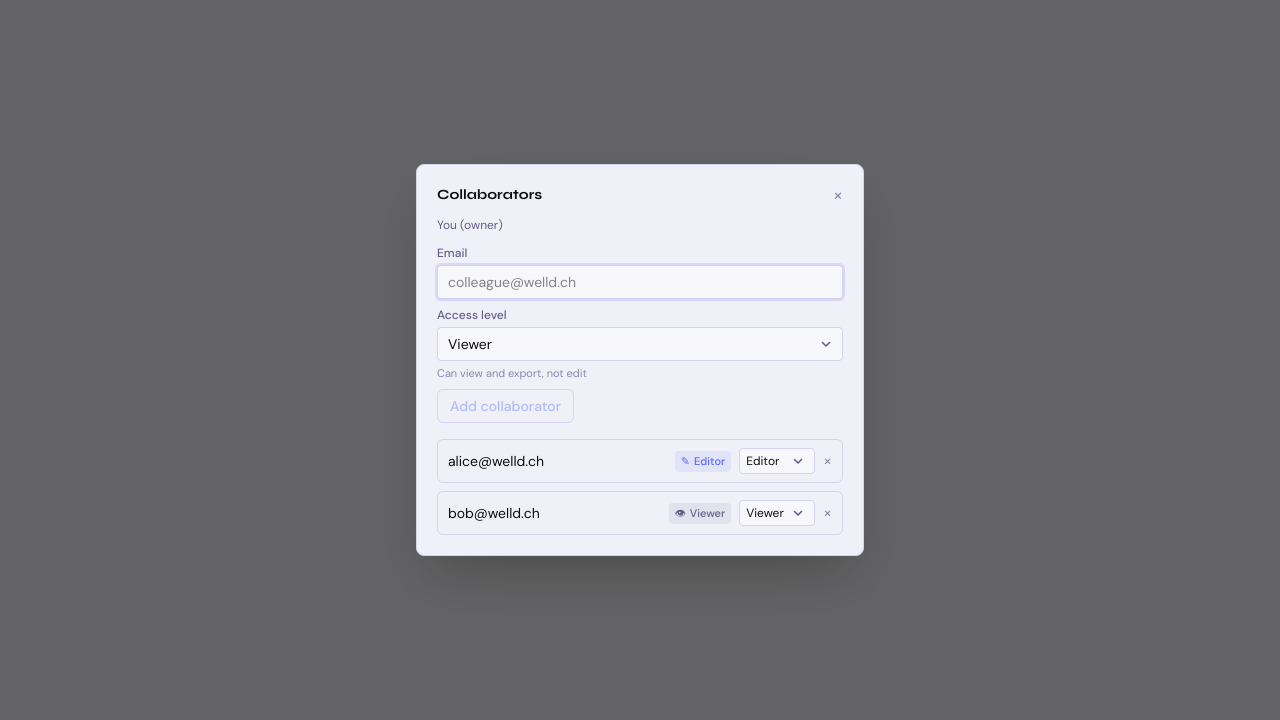
it: CollaboratorsDialog — owner mode (T20, specs/013) › level change (AC-5.1) › shows a row-scoped error on failure without affecting other rows
Expected: the text "alice@welld.ch" is shown, x1=448 y1=452 x2=544 y2=470
Select "Viewer" in the dropdown named "Access level (alice@welld.ch)" at [777, 461], box x1=739 y1=448 x2=815 y2=474
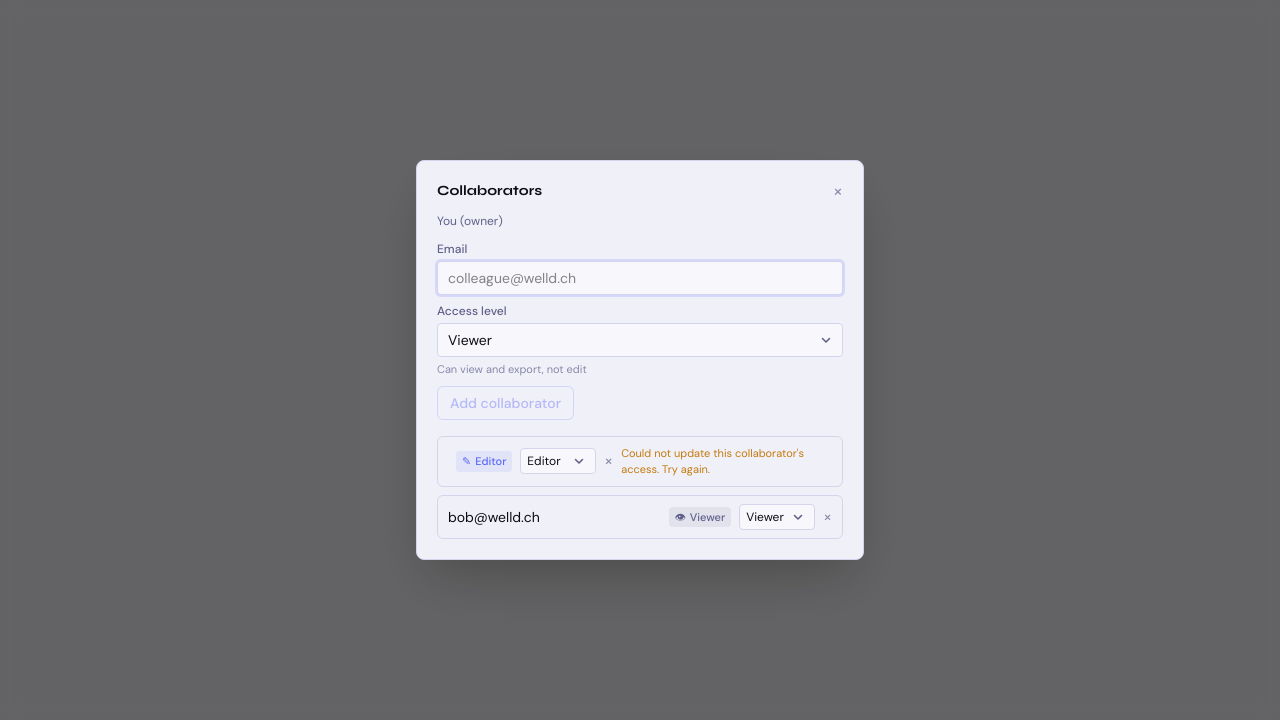
Result: the text "Could not update this collaborator's access. Try again." is shown once at x1=621 y1=445 x2=832 y2=478
